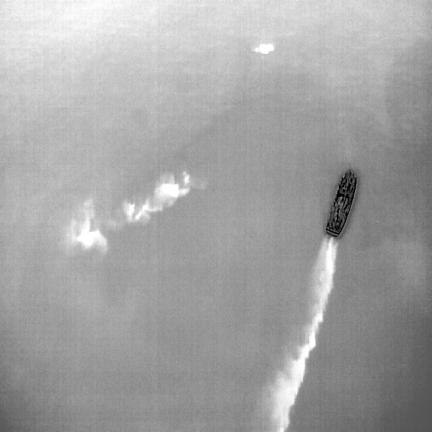flukeprints: (71, 199, 107, 249), (155, 173, 190, 202), (131, 199, 153, 220), (123, 202, 134, 221), (254, 44, 273, 54)
